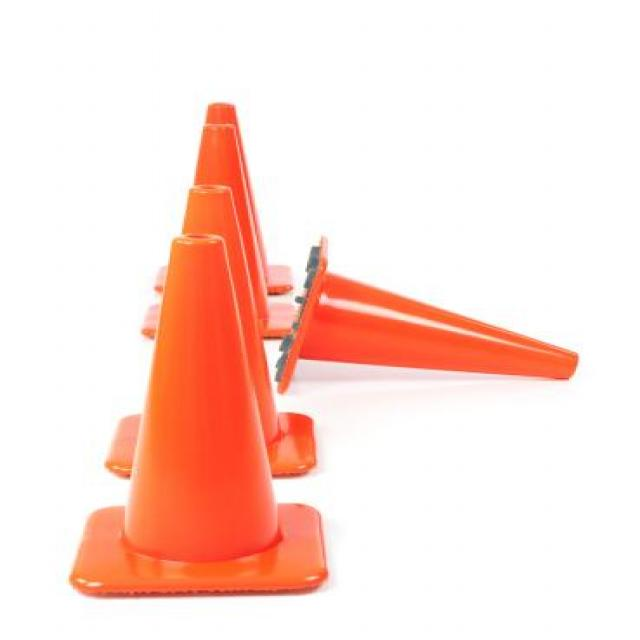Cone: (76, 236, 333, 600), (274, 237, 579, 389), (148, 124, 296, 342)
